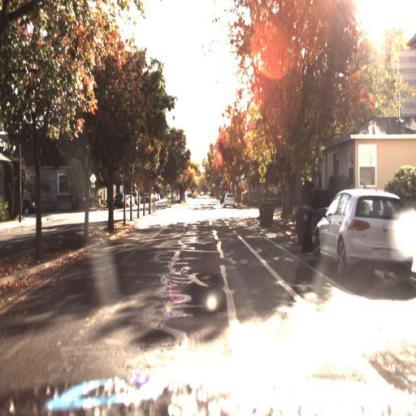car: (303, 187, 416, 289), (20, 195, 37, 220), (223, 197, 239, 215), (116, 194, 126, 209), (128, 196, 136, 208)
trafficLight-Green: (205, 169, 212, 185), (220, 176, 227, 188), (212, 182, 217, 191)
